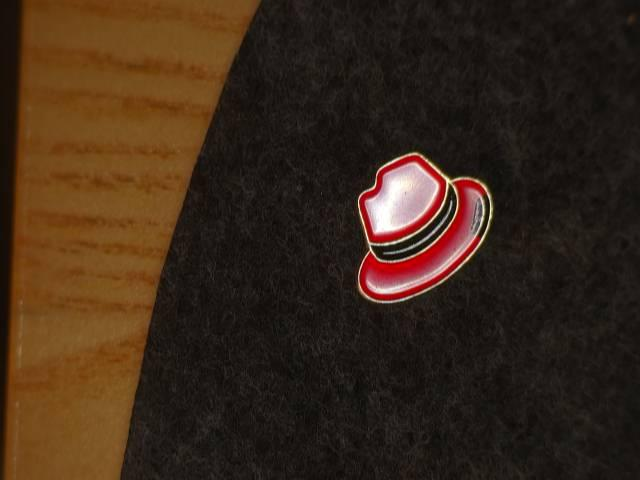Red-Hat: (344, 137, 519, 335)
Scratch: (468, 179, 502, 255)
